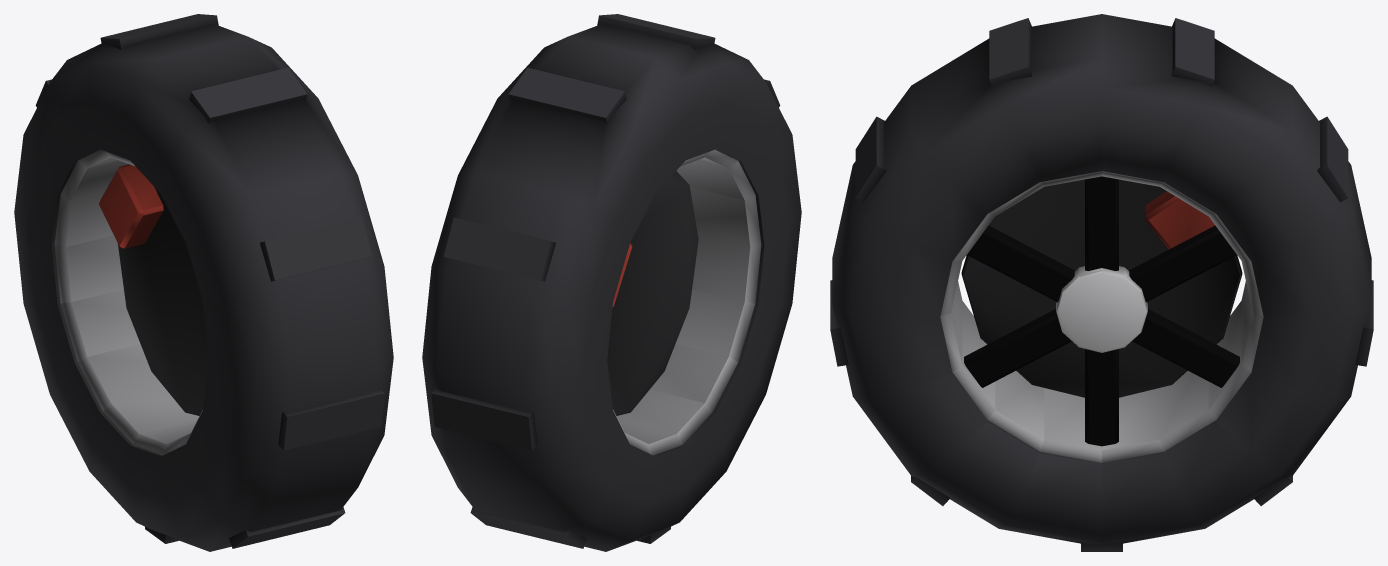
File: wheel_recovery.glb
3 renders of one model, left to right at view 1: azimuth 30°, elevation 25°; view 2: azimuth 150°, elevation 25°; view 3: azimuth 270°, elevation 25°, orthographic. The views are drawn at different scales.
Visible parts, largest first — view 1: tyre, rim_barrel, brake_disc, tread_06, tread_07, caliper, tread_05, tread_04, tread_08; view 2: tyre, rim_barrel, brake_disc, tread_03, tread_02, tread_04, tread_05, tread_01; view 3: tyre, brake_disc, rim_barrel, hub, spoke_1, spoke_5, spoke_2, spoke_4, spoke_0, spoke_3, tread_04, tread_05 (+5 smaller).
Part boxes in pixels (x1,y1,x2,y2): tyre: [14, 24, 393, 551]; rim_barrel: [54, 149, 202, 455]; brake_disc: [118, 187, 208, 415]; tread_06: [260, 217, 372, 281]; tread_07: [278, 388, 384, 450]; caliper: [99, 164, 163, 248]; tread_05: [189, 67, 307, 123]; tread_04: [100, 14, 218, 49]; tread_08: [229, 507, 345, 548]; tyre: [422, 24, 801, 551]; rim_barrel: [613, 149, 761, 455]; brake_disc: [607, 171, 698, 415]; tread_03: [443, 217, 555, 281]; tread_02: [431, 388, 537, 450]; tread_04: [508, 67, 626, 123]; tread_05: [597, 14, 715, 49]; tread_01: [470, 507, 586, 548]; tyre: [832, 14, 1371, 546]; brake_disc: [961, 179, 1242, 397]; rim_barrel: [940, 171, 1263, 462]; hub: [1056, 266, 1147, 352]; spoke_1: [1132, 309, 1239, 387]; spoke_5: [964, 309, 1071, 387]; spoke_2: [1129, 225, 1236, 302]; spoke_4: [967, 225, 1074, 302]; spoke_0: [1085, 349, 1118, 446]; spoke_3: [1085, 176, 1118, 270]; tread_04: [1171, 18, 1214, 86]; tread_05: [989, 18, 1032, 86].
Size of the model in its own units: 0.26 by 0.8038 by 0.8061.
